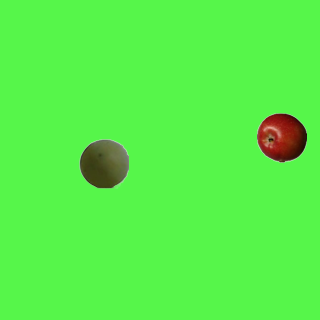Apple Braeburn: (256, 112, 306, 162)
Grape White 4: (78, 138, 128, 188)
